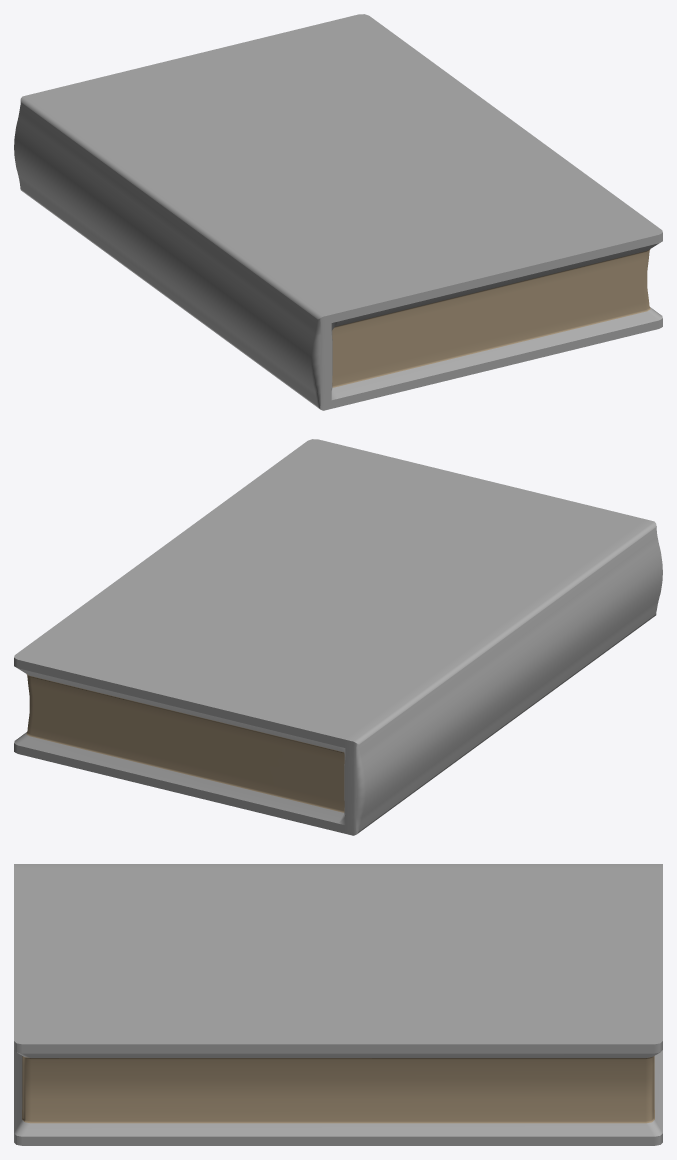
File: Book_4.fbx
3 renders of one model, top to bottom at view 1: azimuth 30°, elevation 25°; view 2: azimuth 150°, elevation 25°; view 3: azimuth 270°, elevation 25°, orthographic. The views are drawn at different scales.
Visible parts, largest first — view 1: Book_4; view 2: Book_4; view 3: Book_4.
Boxes of the visible parts, x1=… form: Book_4: x1=14, y1=14, x2=662, y2=410; Book_4: x1=14, y1=439, x2=662, y2=835; Book_4: x1=14, y1=864, x2=662, y2=1145.
Bounding box in the file's own units: 52.02 × 13.25 × 76.75.
